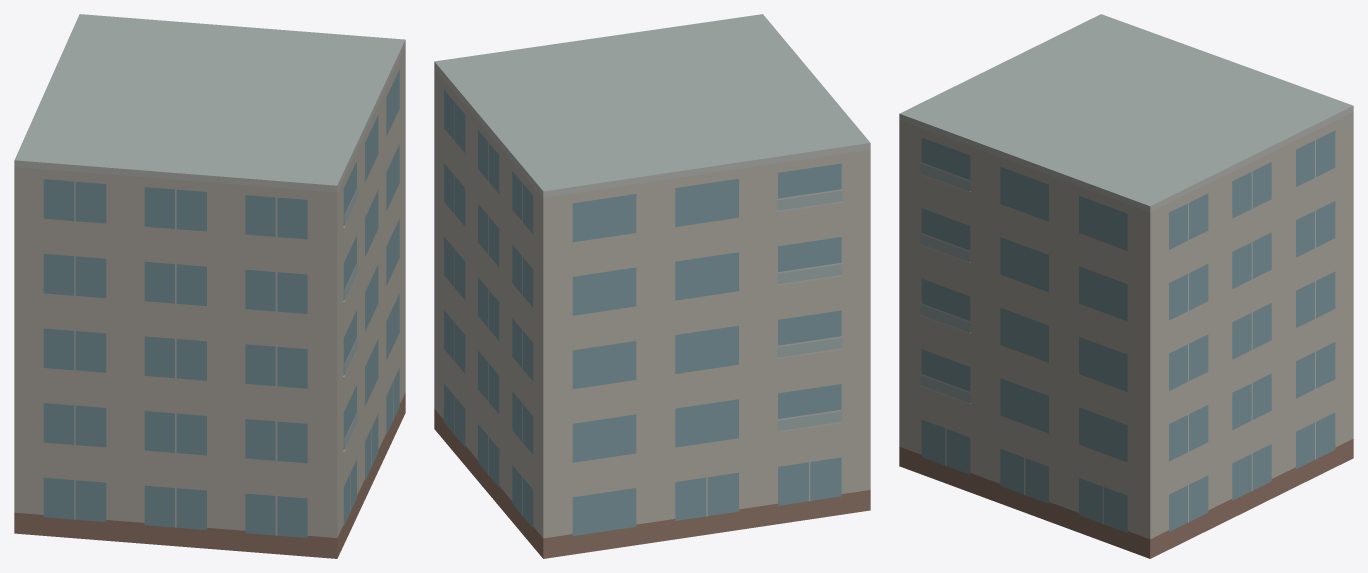
The model's file is survey-upis-32625655.glb.
The picture shows the model from 3 angles, left to right: view 1: azimuth 30°, elevation 25°; view 2: azimuth 150°, elevation 25°; view 3: azimuth 270°, elevation 25°; orthographic projection. The views are drawn at different scales.
Visible parts, largest first — view 1: survey-upis-32625655.tmp; view 2: survey-upis-32625655.tmp; view 3: survey-upis-32625655.tmp.
Part boxes in pixels (x1,y1,x2,y2): survey-upis-32625655.tmp: (14, 14, 405, 558); survey-upis-32625655.tmp: (434, 14, 870, 558); survey-upis-32625655.tmp: (899, 14, 1353, 558).
Bounding box in the file's own units: 16.15 × 13.8 × 16.12.
